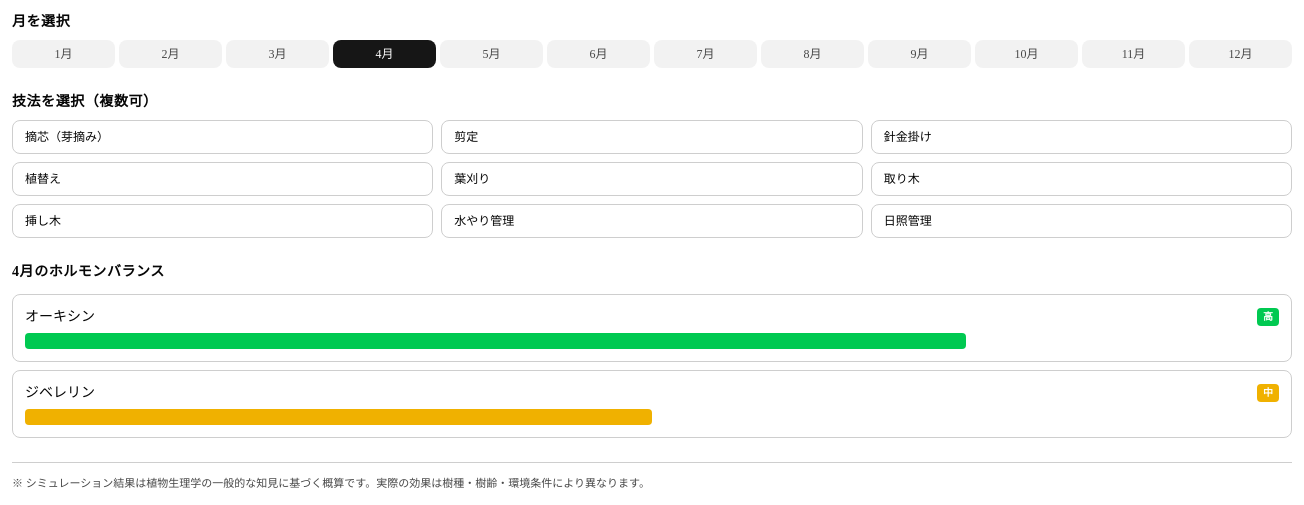
Test case: HormoneBalanceSimulator - 技法トグル › 「すべて解除」で全ての選択がリセットされる
Click the button "摘芯（芽摘み）" at (67, 137), box top-left (12, 120), bottom-right (433, 154)
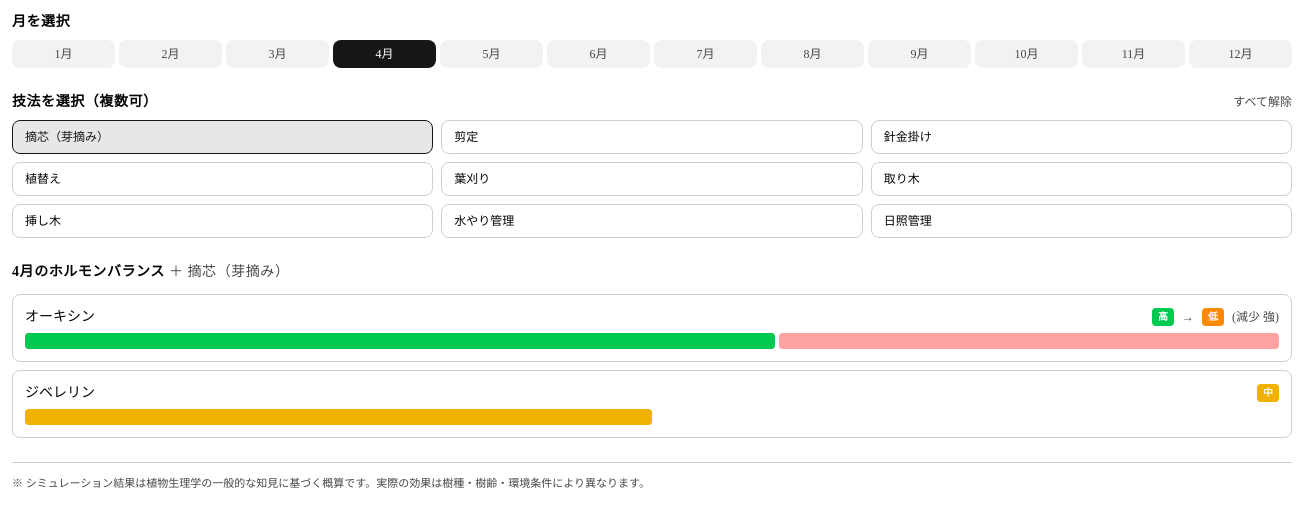
Click the button "剪定" at (466, 137), box top-left (441, 120), bottom-right (863, 154)
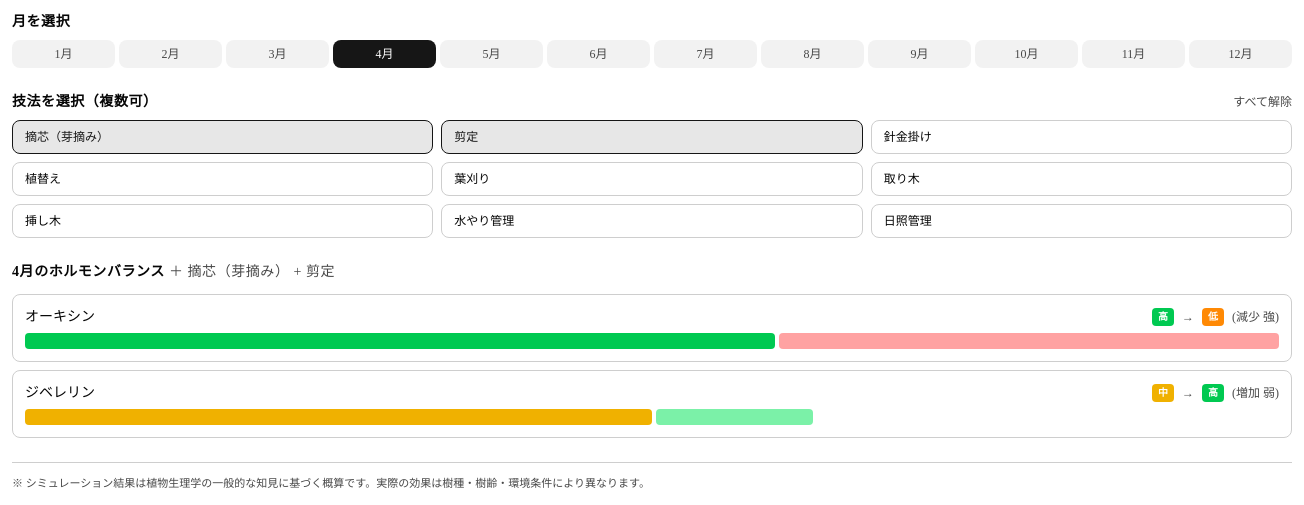
Click the button "すべて解除" at (1263, 102), box top-left (1233, 94), bottom-right (1292, 110)
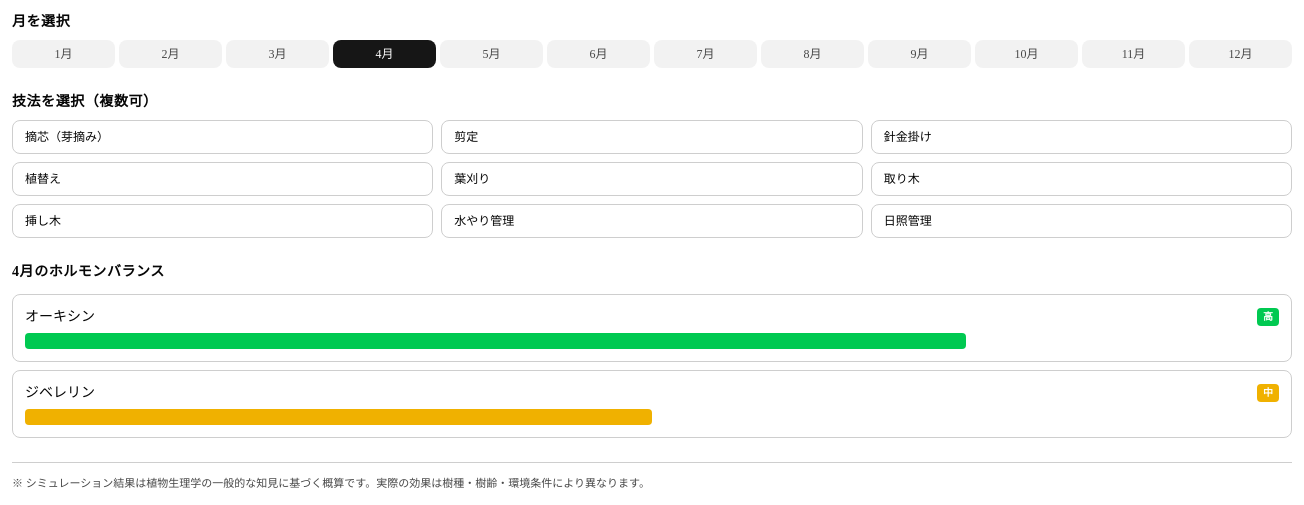
expect the button "すべて解除" is gone: met
